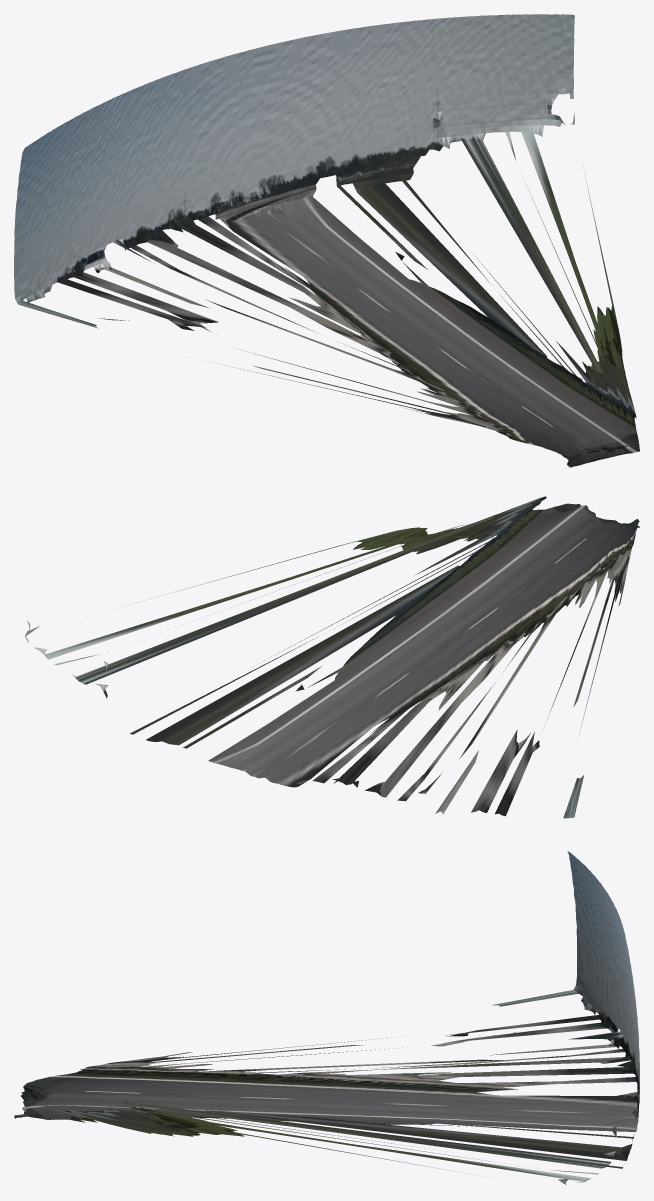
The picture shows the model from 3 angles, top to bottom: view 1: azimuth 30°, elevation 25°; view 2: azimuth 150°, elevation 25°; view 3: azimuth 270°, elevation 25°; orthographic projection. The views are drawn at different scales.
Visible parts, largest first — view 1: defaultobject; view 2: defaultobject; view 3: defaultobject.
Part boxes in pixels (<box>): defaultobject: <box>14,14,639,467</box>; defaultobject: <box>25,496,639,818</box>; defaultobject: <box>14,851,639,1184</box>.
Size of the model in its own units: 41.11 by 13.04 by 44.67.
Materials: 1 (1 with a texture image).
